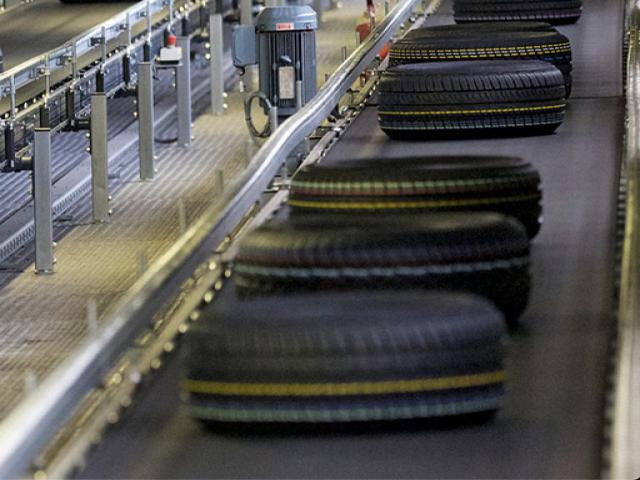conveyor: (36, 4, 640, 480)
